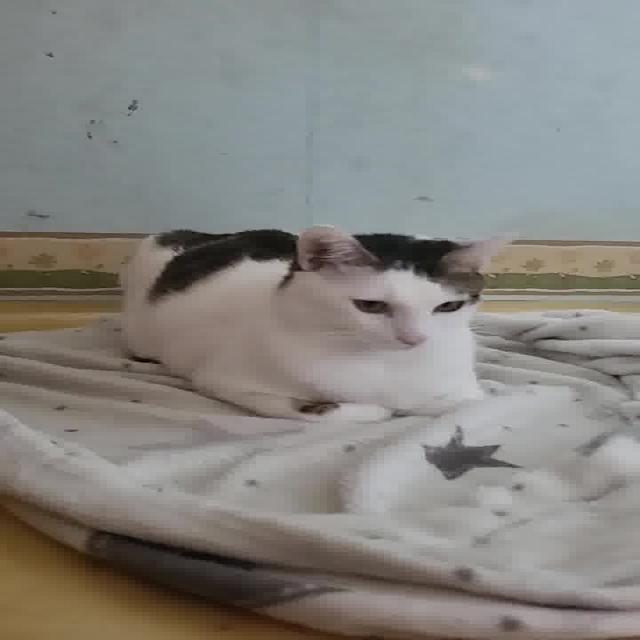cat: (111, 220, 516, 432)
